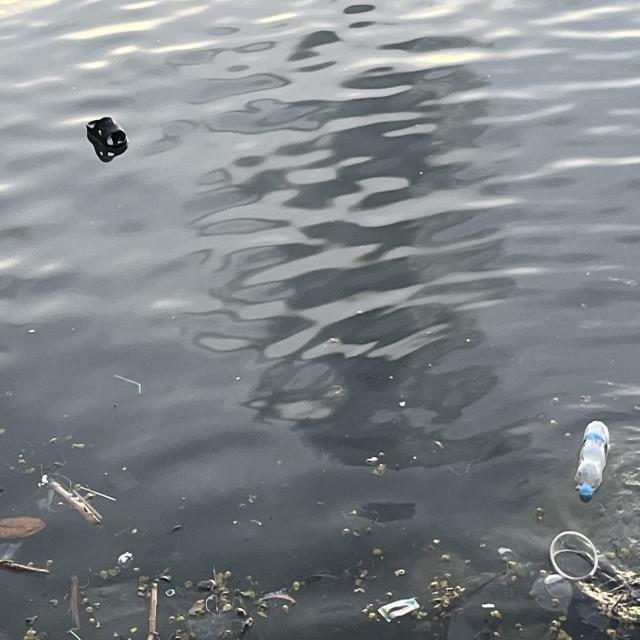plastic: (578, 422, 610, 498)
plastic bottle: (443, 559, 536, 640), (85, 578, 147, 622), (551, 532, 599, 583), (532, 573, 571, 611), (377, 595, 419, 623), (71, 488, 103, 521), (80, 485, 116, 502), (114, 375, 142, 394), (117, 552, 133, 568)
unknow: (86, 118, 129, 152)
